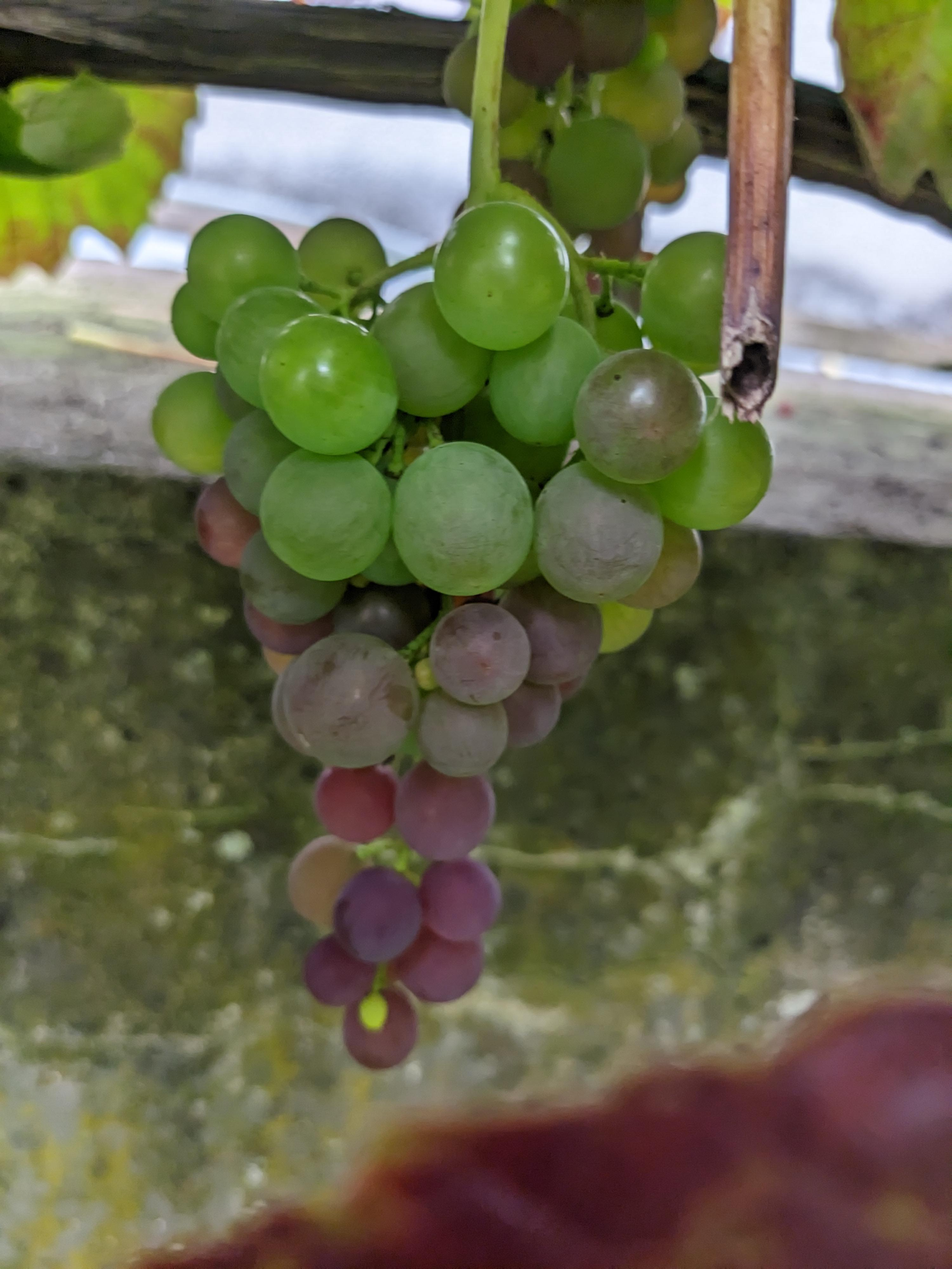Grape Unripe: (146, 192, 781, 1072), (442, 0, 724, 255)
